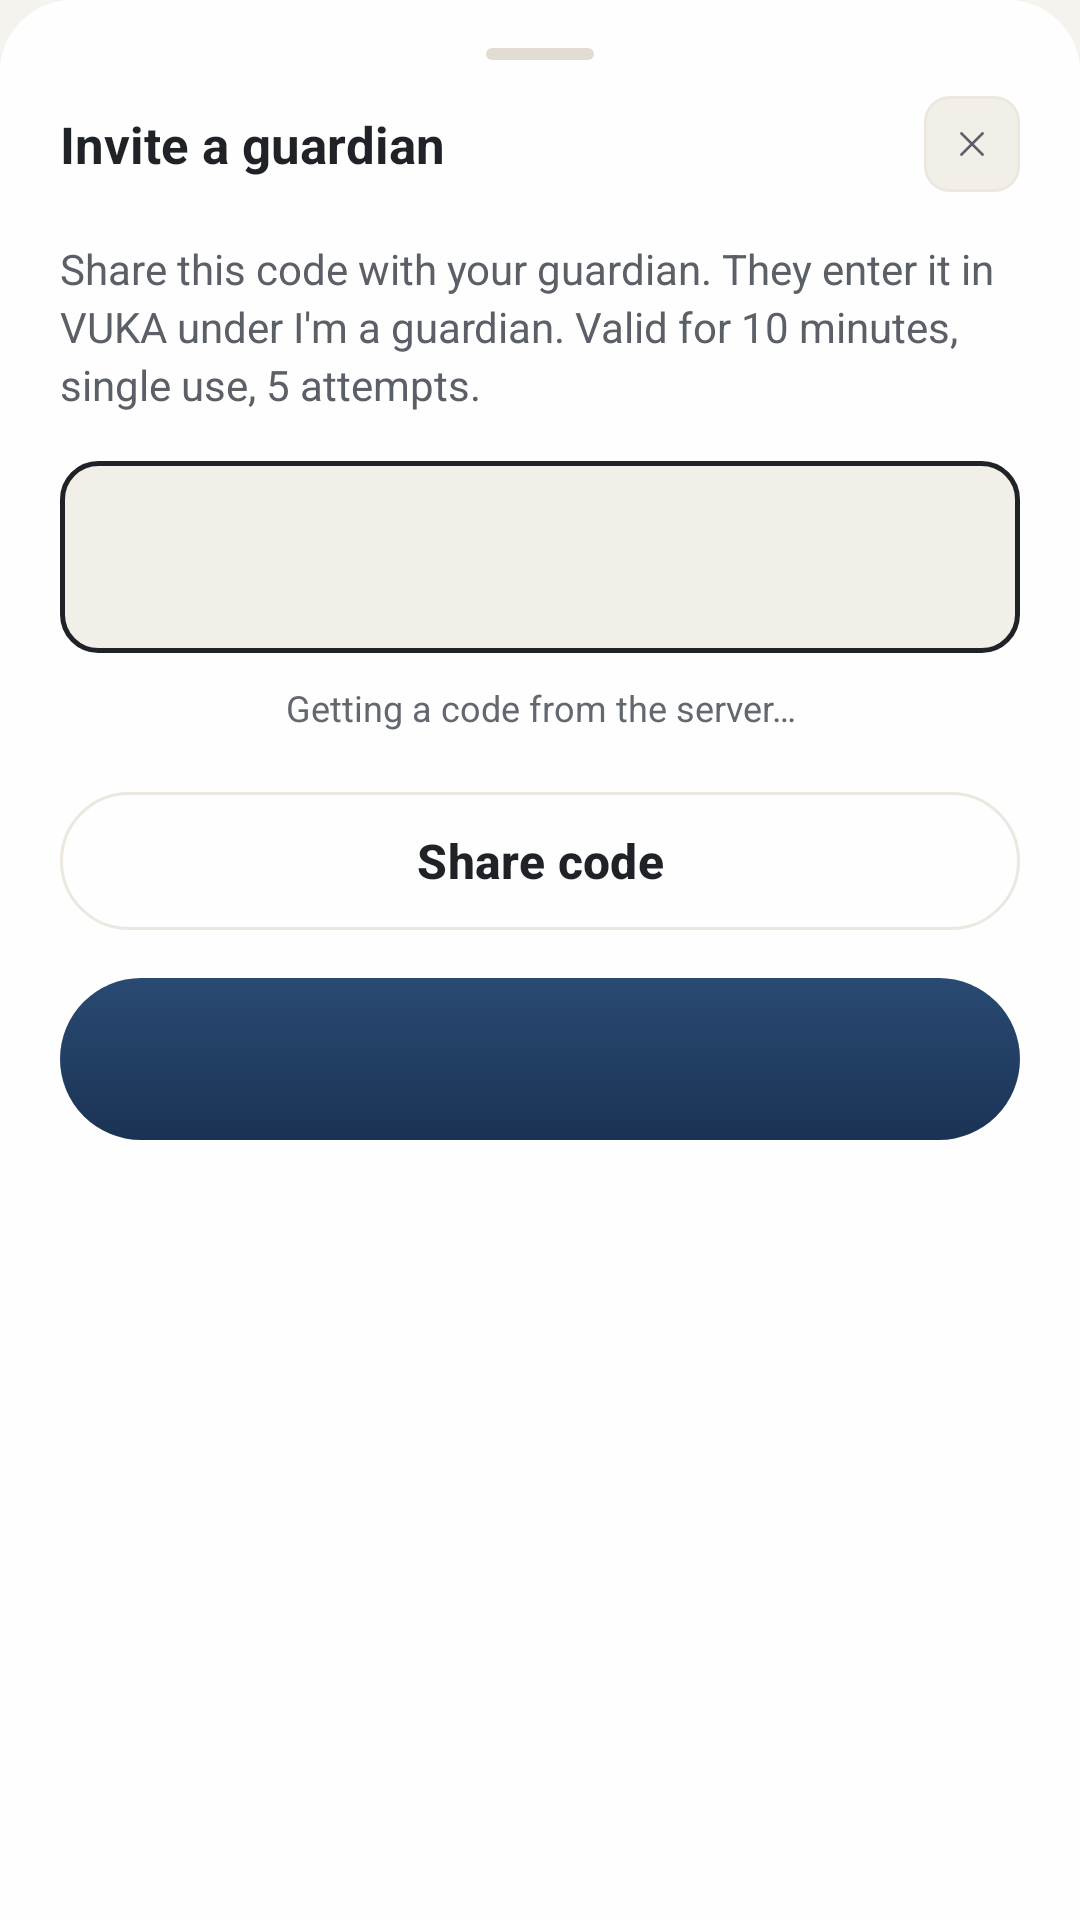

Screen size 1080 × 1920. Icon name, then its box in pixels as (x1, y1, x2, y2):
Close: (924, 96, 1020, 192)
